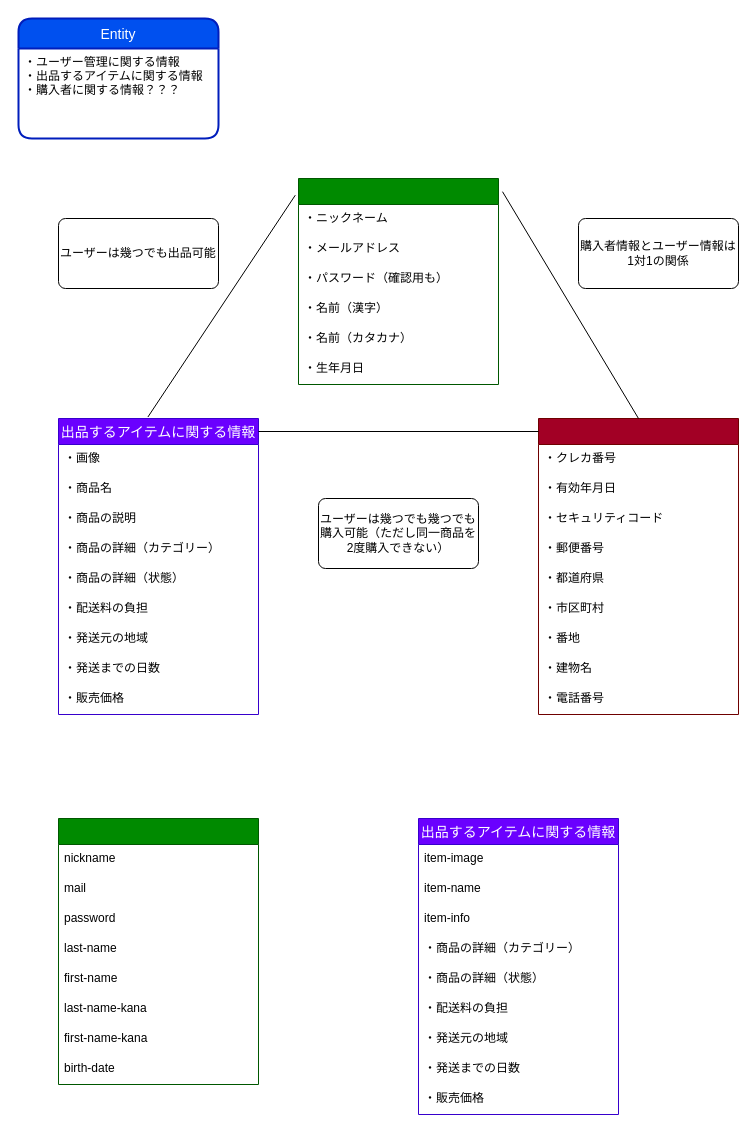
Some shapes in this 756 by 1134 pixel diagram are drawn without their labels. The shapes that lost their labels are listed below. From the top down, each one's box as (x1, y1, x2, y2) in pixels, then its label:
(298, 178, 498, 384): ユーザー管理に関する情報
(538, 418, 738, 714): 購入者に関する情報
(58, 818, 258, 1084): Users Table
